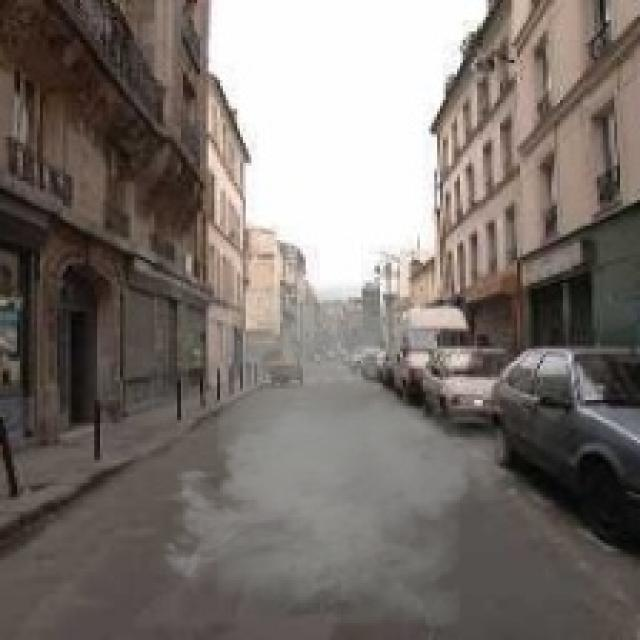smoke: (151, 280, 526, 626)
